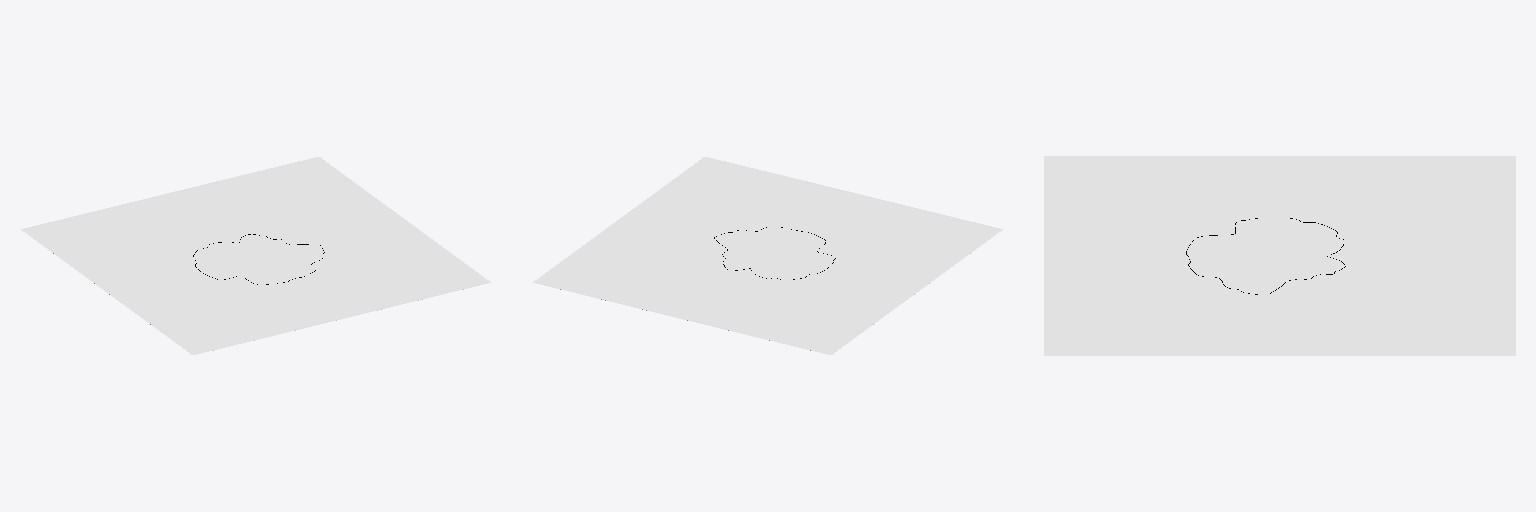
robot.urdf — world:
<robot name="world">
 
	<link name="plane">

   		<inertial>
		    <origin rpy="0 0 0" xyz="0 0 0" />
            <mass value="0.0" />
            <inertia ixx="0.0" ixy="0.0" ixz="0.0" iyy="0.0" iyz="0.0" izz="0.0" />
        </inertial>

    	<visual>
      		<geometry>
        		<box size="10.0 10.0 0.001" />
      		</geometry>

			<material name="plane_color">
        		<color rgba="1 1 1 1" />
      		</material>
       	
			<origin rpy="0 0 0" xyz="0 0 0" />
		</visual>

		<contact>
		 	<lateral_friction value="1" />
			<stiffness value="300000" />
          	<damping value="1000" />
  		</contact>

  		<collision>
			<geometry>
        		<box size="10.0 10.0 0.01" />
      		</geometry>
          <origin rpy="0 0 0" xyz="0 0 0" />
        </collision>
  
	</link>


	<link name="line">

   		<inertial>
		    <origin rpy="0 0 0" xyz="0 0 0" />
            <mass value="0.0" />
            <inertia ixx="0.0" ixy="0.0" ixz="0.0" iyy="0.0" iyz="0.0" izz="0.0" />
        </inertial>

    	<visual>
      		<geometry>
				<mesh filename="./models_tracks/31.obj" scale="1 1 1" />
      		</geometry>
       		
			<material name="line_color">
        		<color rgba="0 0 0 1" />
      		</material>
	    
			<origin rpy="0 0 0" xyz="0 0 0.001" />
		</visual>
    
	</link>


  	<joint name="plane_line" type="fixed">
		<parent link="plane" />
		<child link="line" />
        <origin rpy="0 0 0" xyz="0.0 0.0 0.0" />
 	</joint>

</robot>

--- Render facts (derived) ---
Views: 3 orthographic renders of the robot side by side, from view 1: azimuth 30°, elevation 25°; view 2: azimuth 150°, elevation 25°; view 3: azimuth 270°, elevation 25°.
Model world with 2 links and 1 joints (1 fixed), rooted at plane, posed all joints at 0.
Links seen in each view (by area): view 1: plane; view 2: plane; view 3: plane.
Boxes of the visible links, left/top/right/bottom form: plane: left=21, top=157, right=490, bottom=354; plane: left=533, top=157, right=1002, bottom=354; plane: left=1044, top=156, right=1515, bottom=355.
Size in the robot's own frame: 10 by 10 by 0.0015 metres.
1 mesh visuals loaded from 1 distinct referenced files (1 OBJ).
